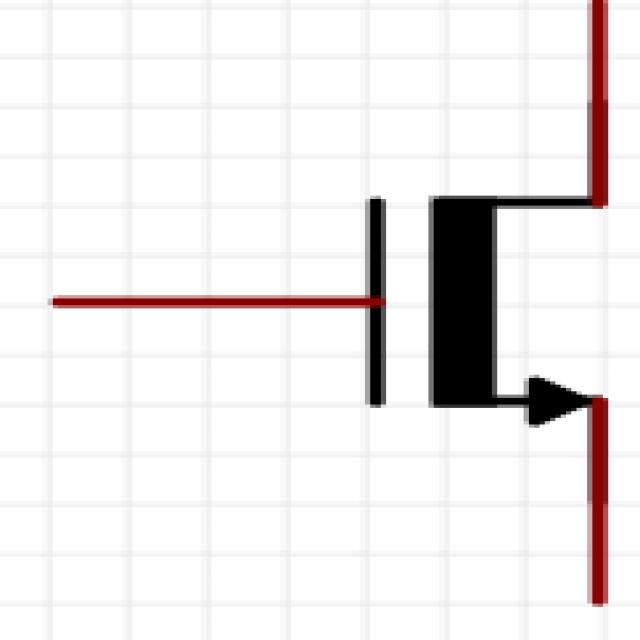nmos: (26, 0, 640, 584)
